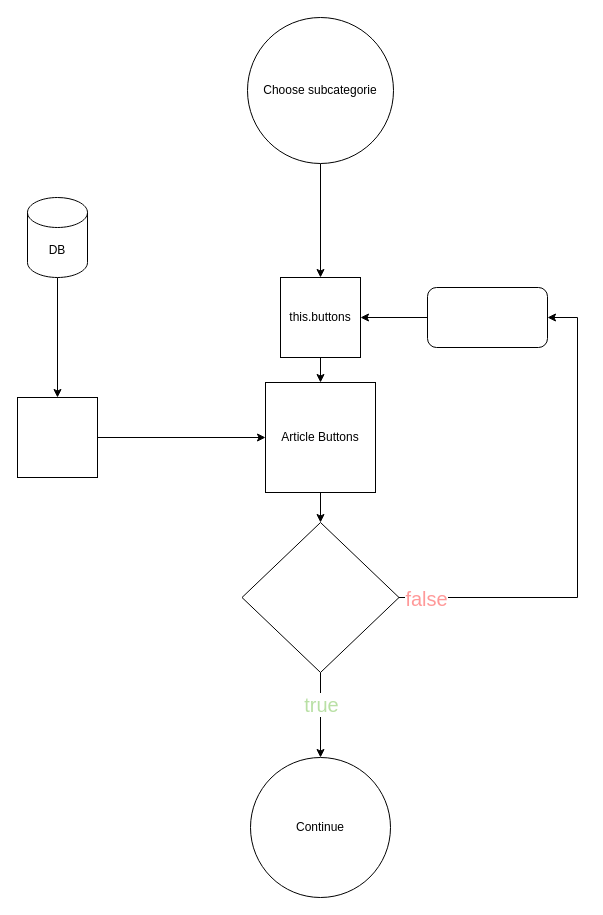
Image size: 603x915. Some labels were removed from this diagram. Here are the shapes that lost their labels. From the top down, the centre of each, then its label:
At (487,317): "Update buttons".
At (57,437): "Articles".
At (320,597): "Choose different subcategorie".
